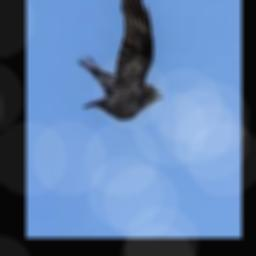Crow: (78, 0, 164, 119)
